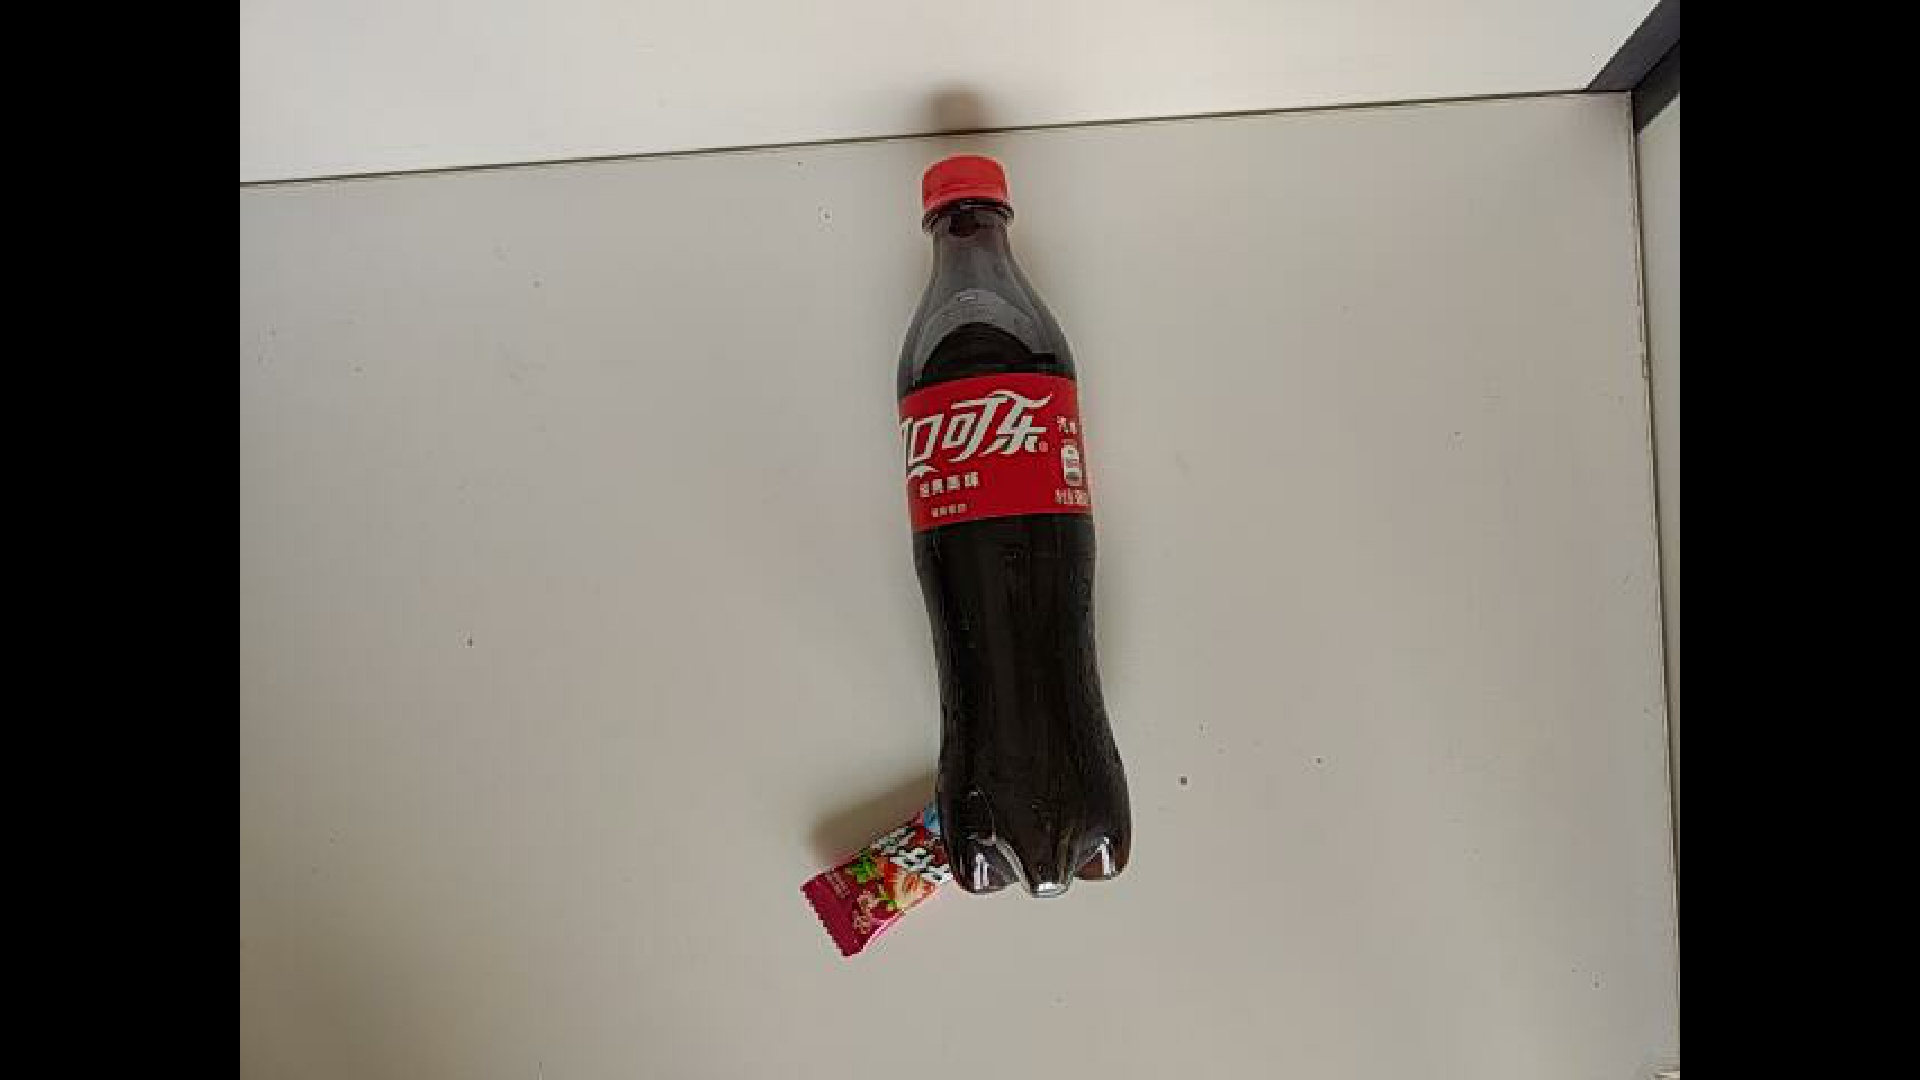cola: (864, 152, 1205, 909)
sugar: (794, 835, 1027, 964)
